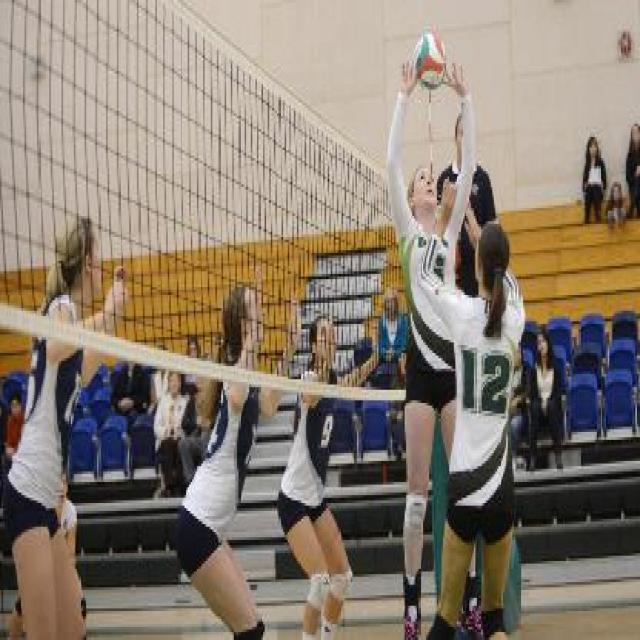volleyball: (412, 29, 447, 90)
